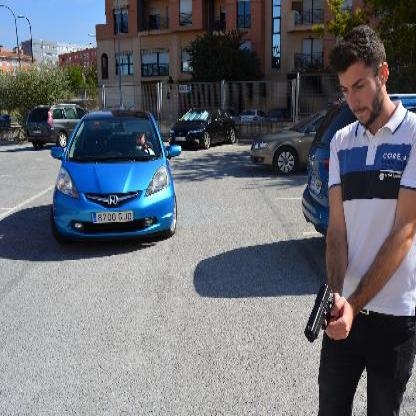pistol: (303, 280, 333, 340)
